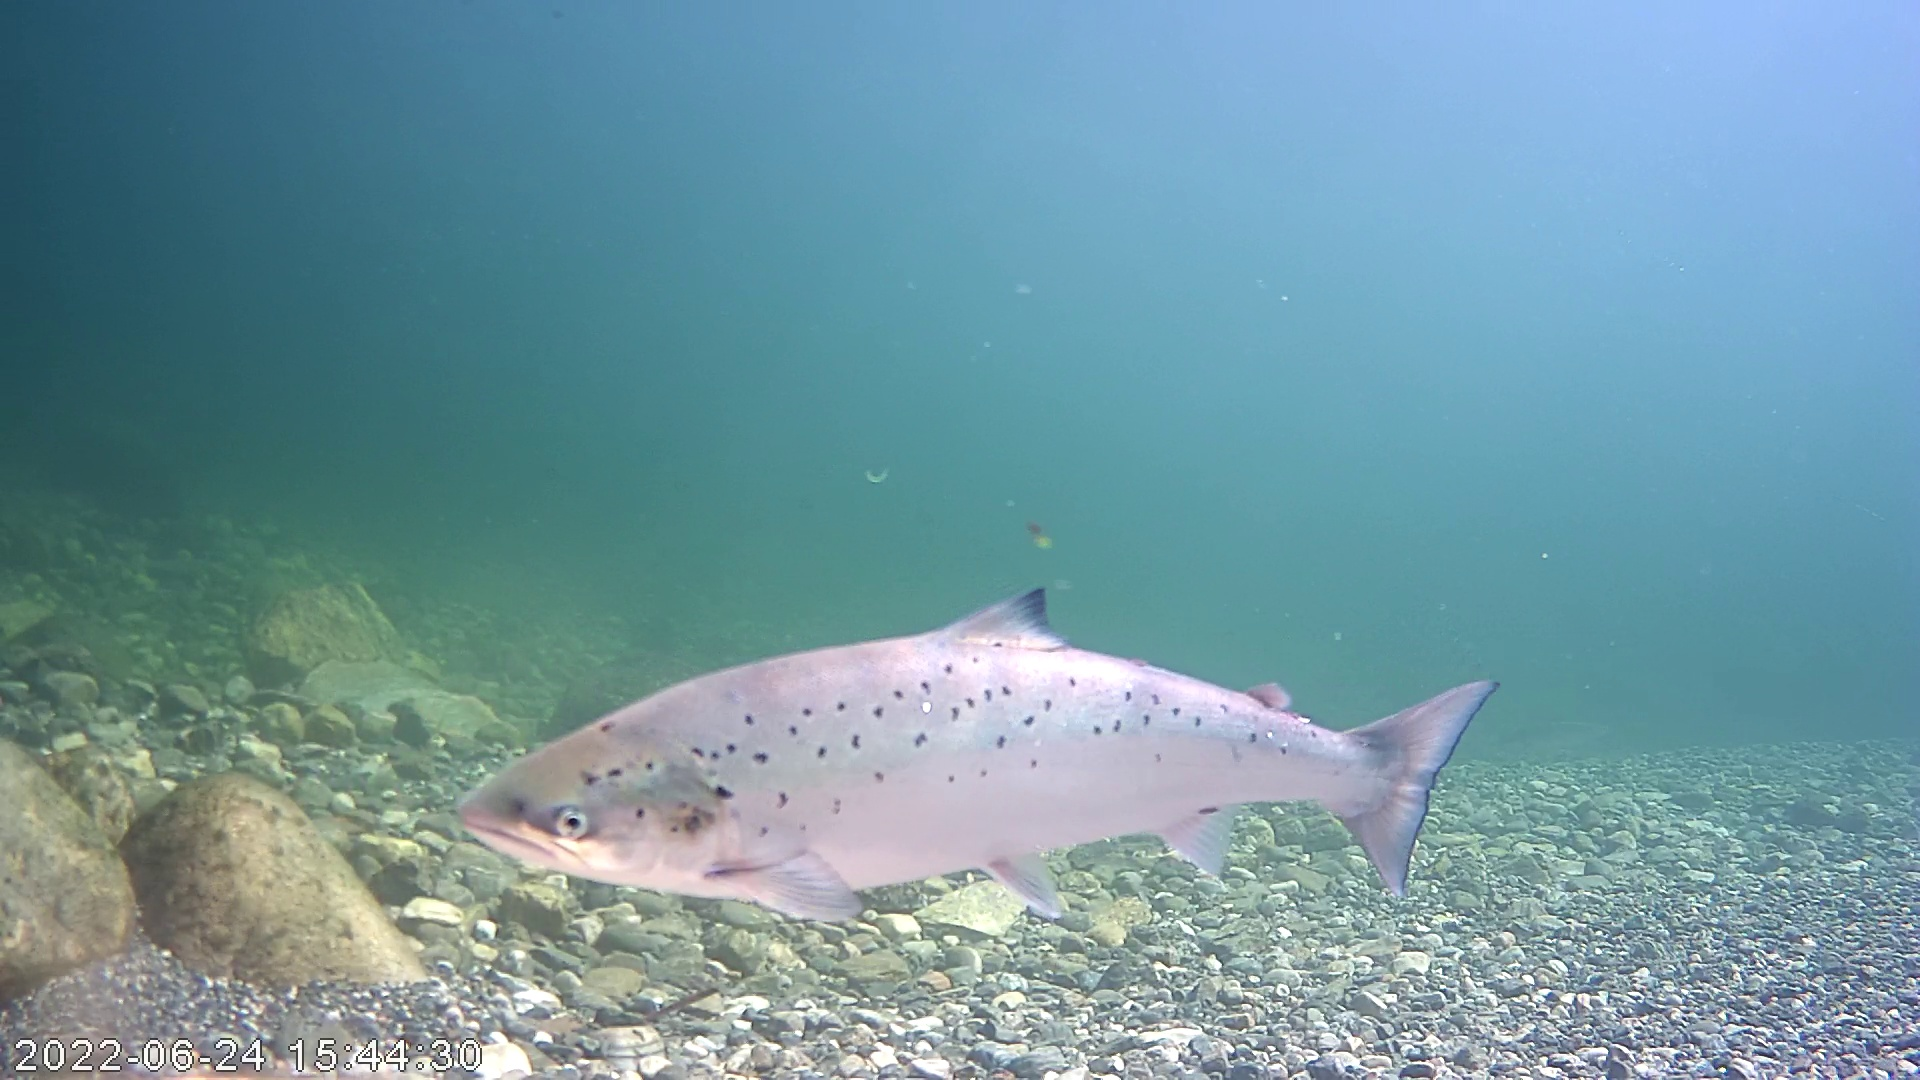salmon: (456, 585, 1505, 928)
